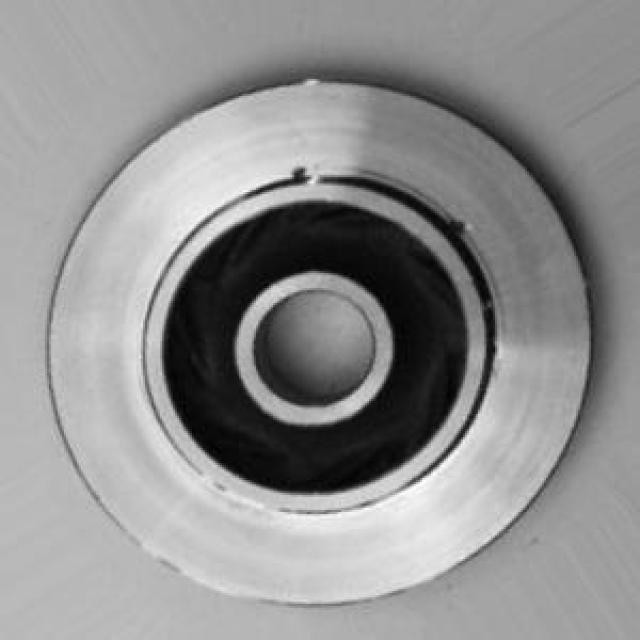Defect: (280, 158, 323, 191)
